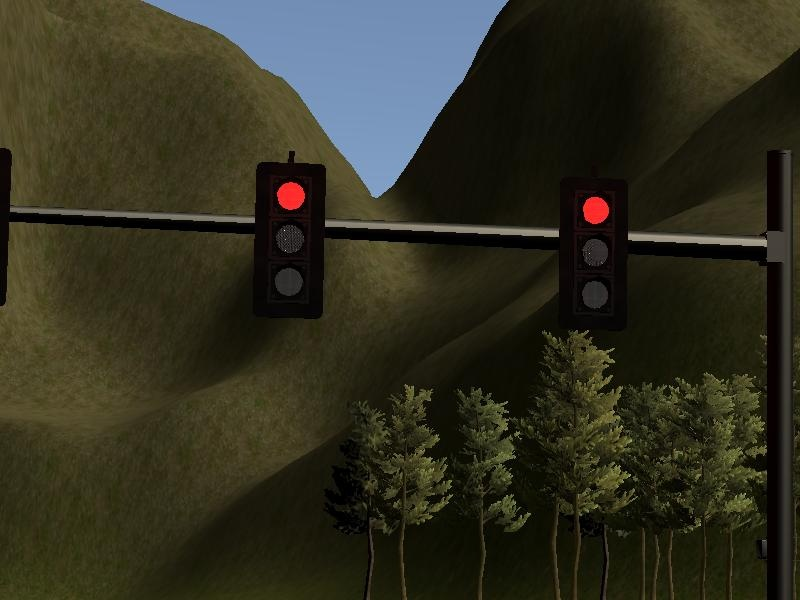RED: (253, 162, 327, 319), (555, 174, 629, 331)
